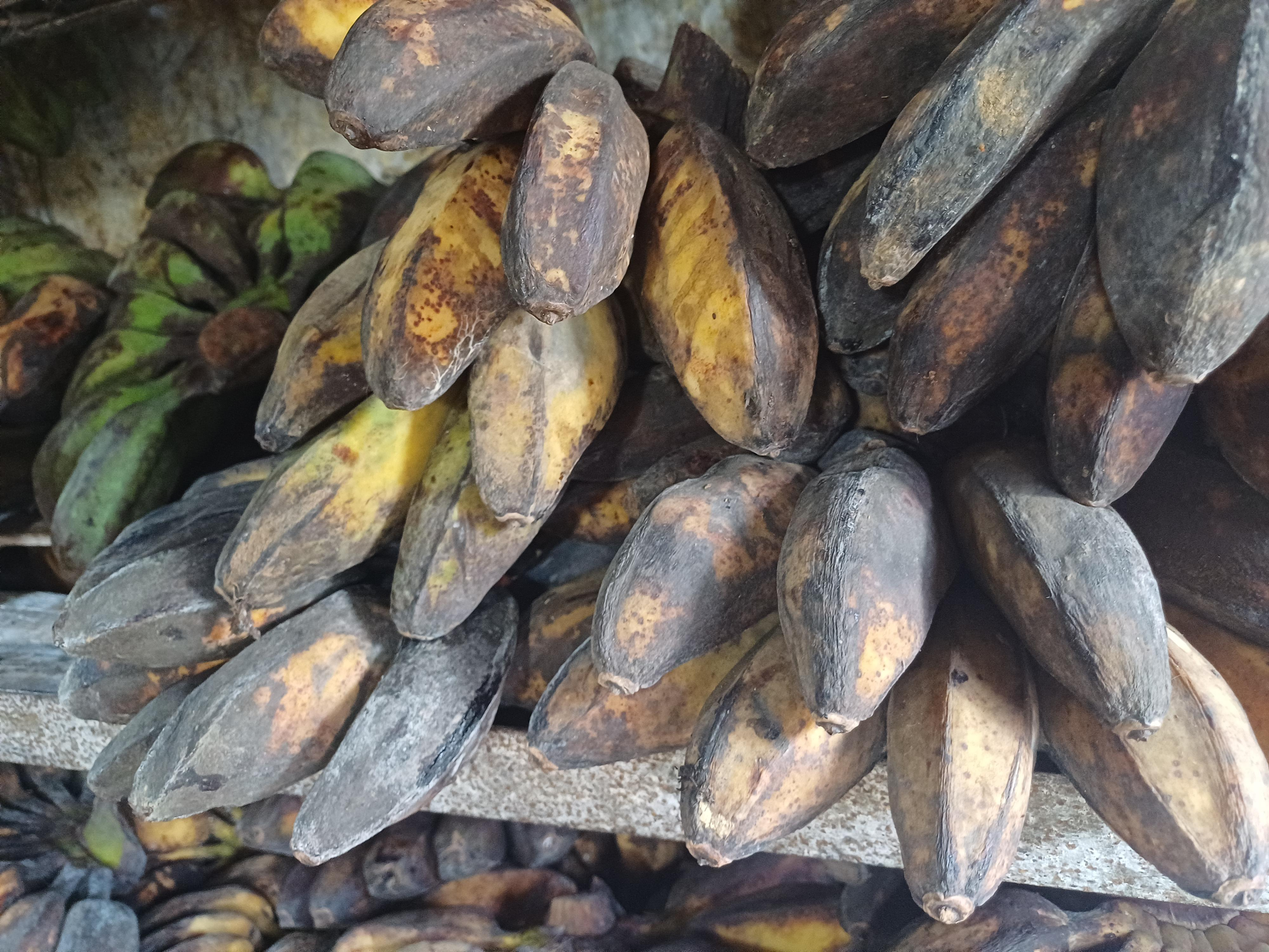overripe: (506, 433, 1269, 922), (745, 0, 1269, 506), (54, 457, 519, 864)
ripe: (215, 0, 821, 638)
underripe: (30, 149, 385, 575)
